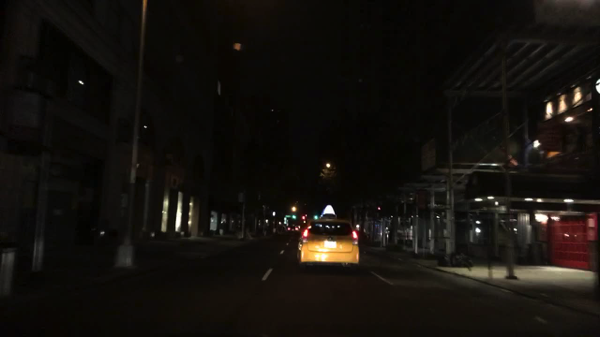car: (297, 205, 362, 272), (285, 225, 299, 235)
traffic light: (290, 215, 297, 220), (301, 214, 306, 220), (314, 213, 318, 220)
